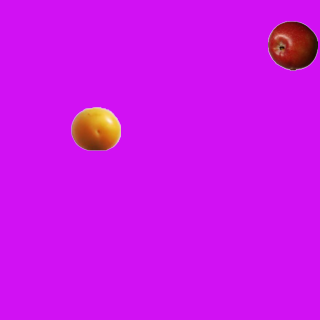Apple Braeburn: (267, 20, 317, 70)
Cherry Wax Yellow: (70, 103, 120, 153)
